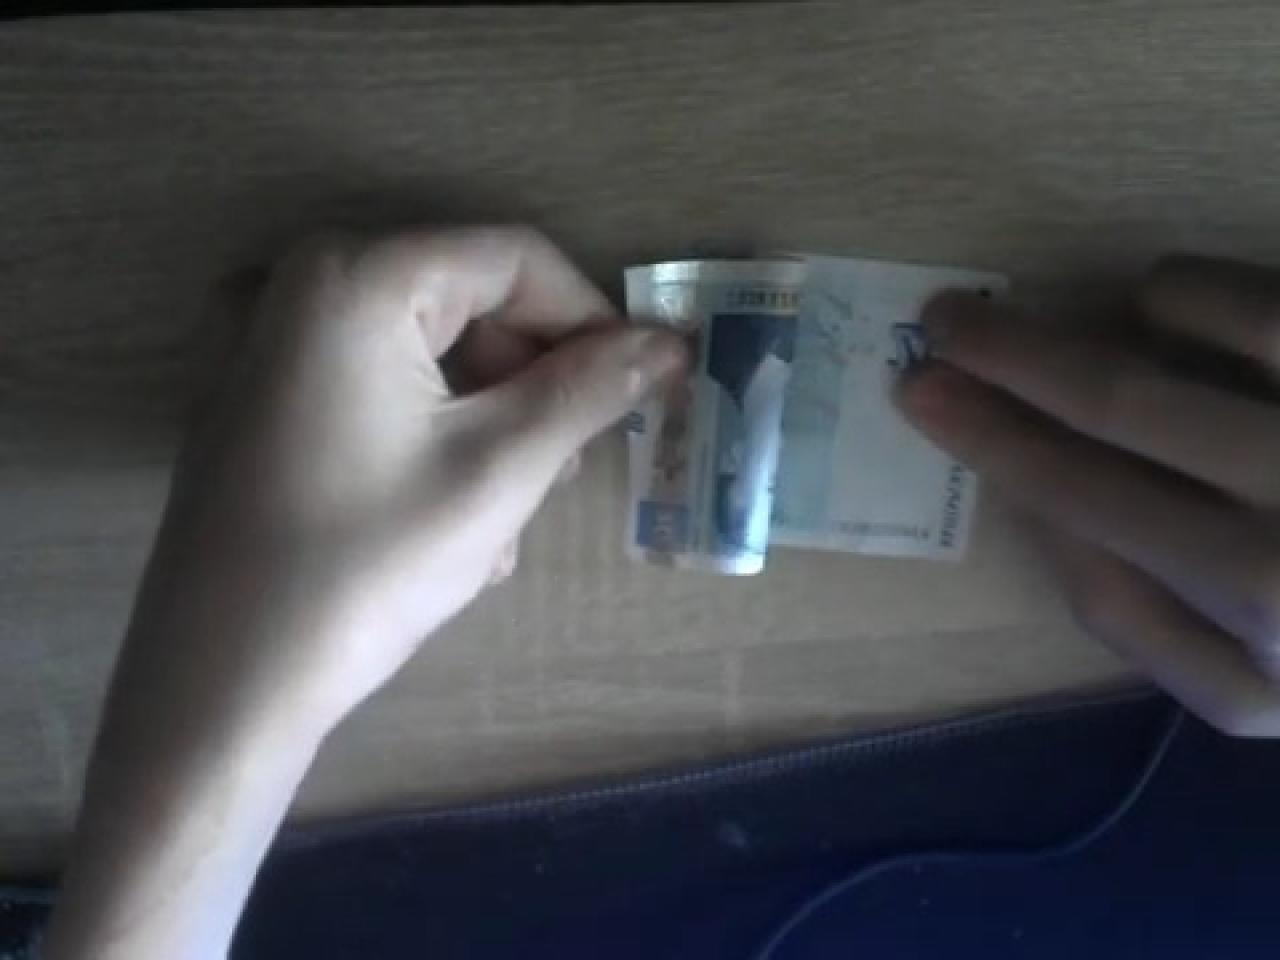20leva: (624, 251, 1008, 574), (637, 259, 800, 574)
